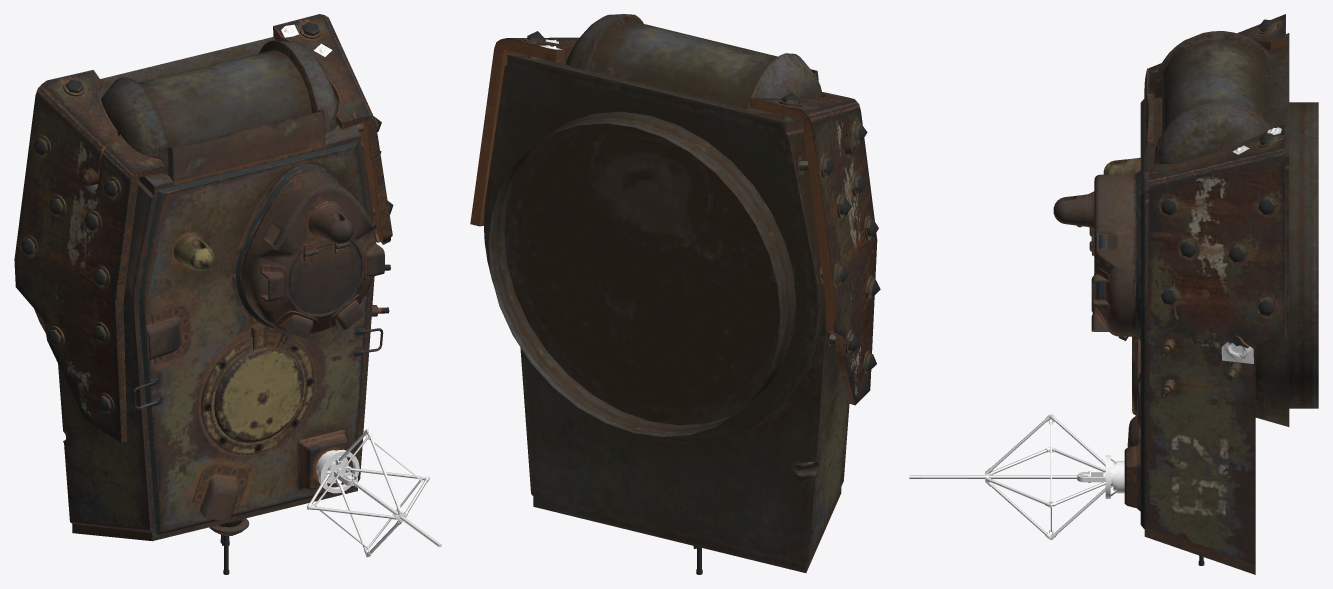
The model's file is Turret_01.glb.
The picture shows the model from 3 angles, left to right: view 1: azimuth 30°, elevation 25°; view 2: azimuth 150°, elevation 25°; view 3: azimuth 270°, elevation 25°; orthographic projection. The views are drawn at different scales.
Parts seen in each view (by area): view 1: set_0_group_0, set_0_group_2, set_0_group_3; view 2: set_0_group_0, set_0_group_2; view 3: set_0_group_0, set_0_group_2, set_0_group_3, set_0_group_1.
Boxes of the visible parts, bbox=[...] form: set_0_group_0: bbox=[21, 22, 393, 574]; set_0_group_2: bbox=[14, 14, 392, 489]; set_0_group_3: bbox=[307, 428, 441, 557]; set_0_group_0: bbox=[483, 14, 880, 574]; set_0_group_2: bbox=[470, 37, 877, 405]; set_0_group_0: bbox=[1053, 19, 1318, 574]; set_0_group_2: bbox=[1124, 14, 1285, 511]; set_0_group_3: bbox=[909, 414, 1124, 539]; set_0_group_1: bbox=[1221, 127, 1281, 363].
Bounding box in the file's own units: 2.16 × 3.05 × 2.29.
Materials: 4 (2 with a texture image).
